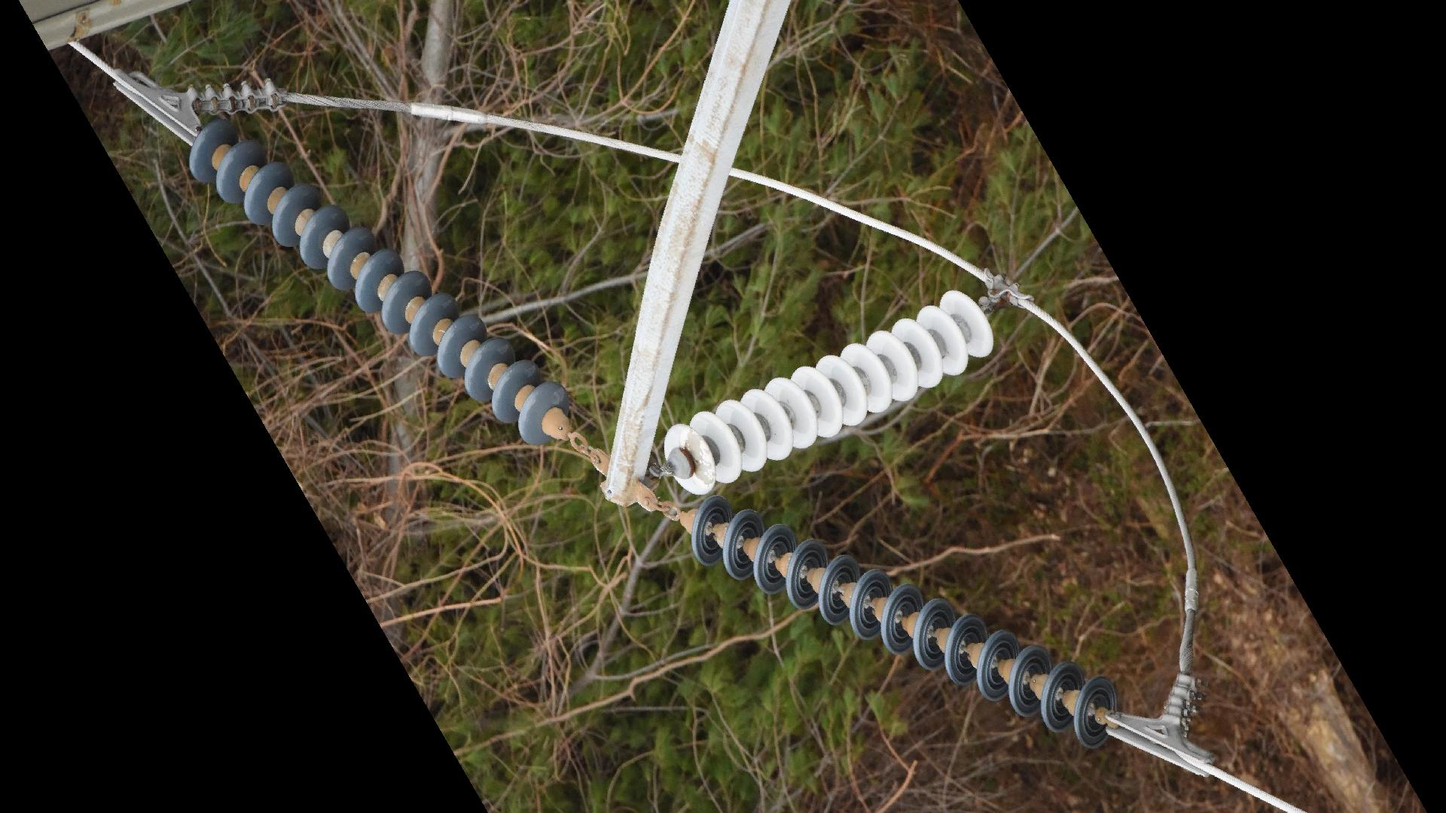insulator: (183, 115, 577, 452), (686, 494, 1127, 754), (659, 285, 999, 498)
insulator_flashover: (683, 426, 717, 486)
